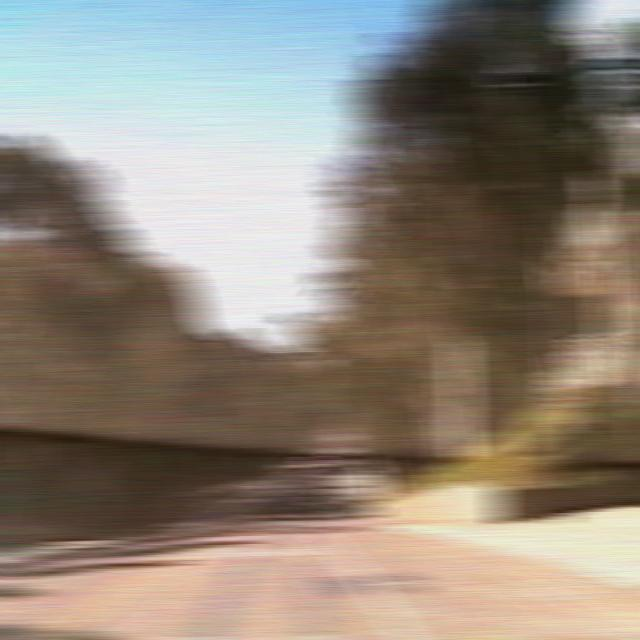speedLimit35: (540, 370, 577, 410)
